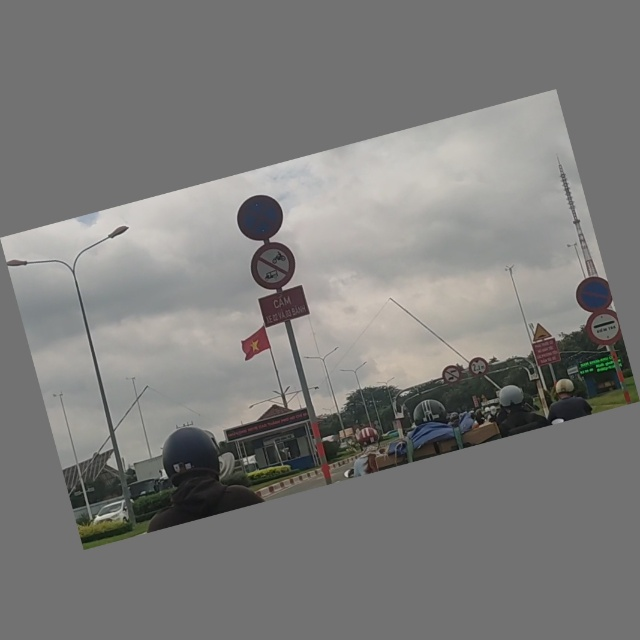P.107: (440, 363, 465, 388)
P.111: (246, 239, 301, 294)
P.117*: (466, 355, 490, 380)
P.129: (582, 308, 624, 350)
P.130: (233, 191, 289, 246)
P.131a: (571, 275, 613, 314)
W.221b: (528, 321, 553, 343)
